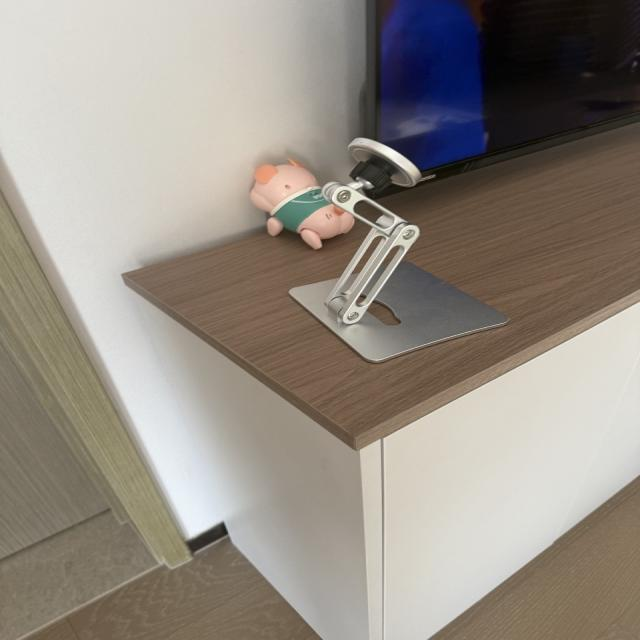phone holder: (279, 135, 515, 365)
